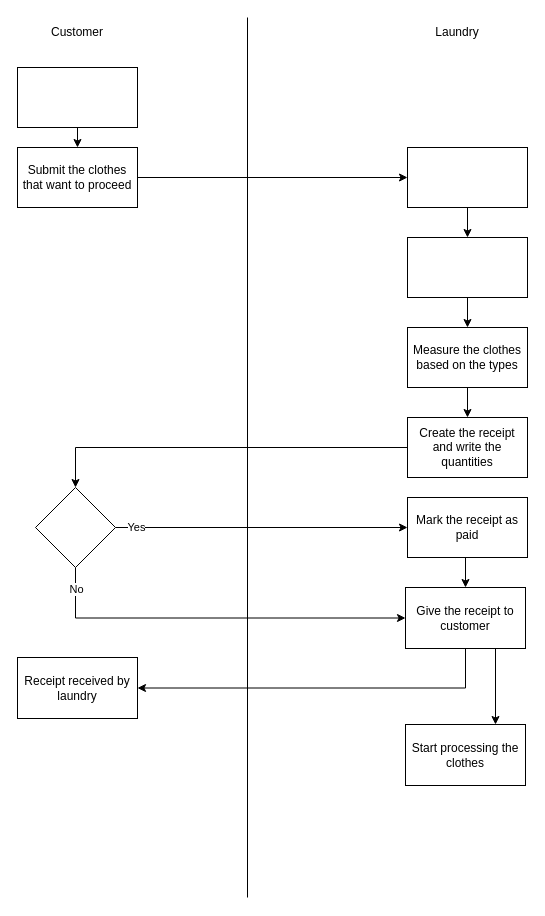
This 545x916 diagram has some shape labels left out. Here are the shapes that lost their labels. From the top down, the centre of each, then its label:
[77,97]: Visit to the laundry
[467,177]: Receive the clothes
[467,267]: Grouping the clothes
[75,527]: Is fully paid ?
